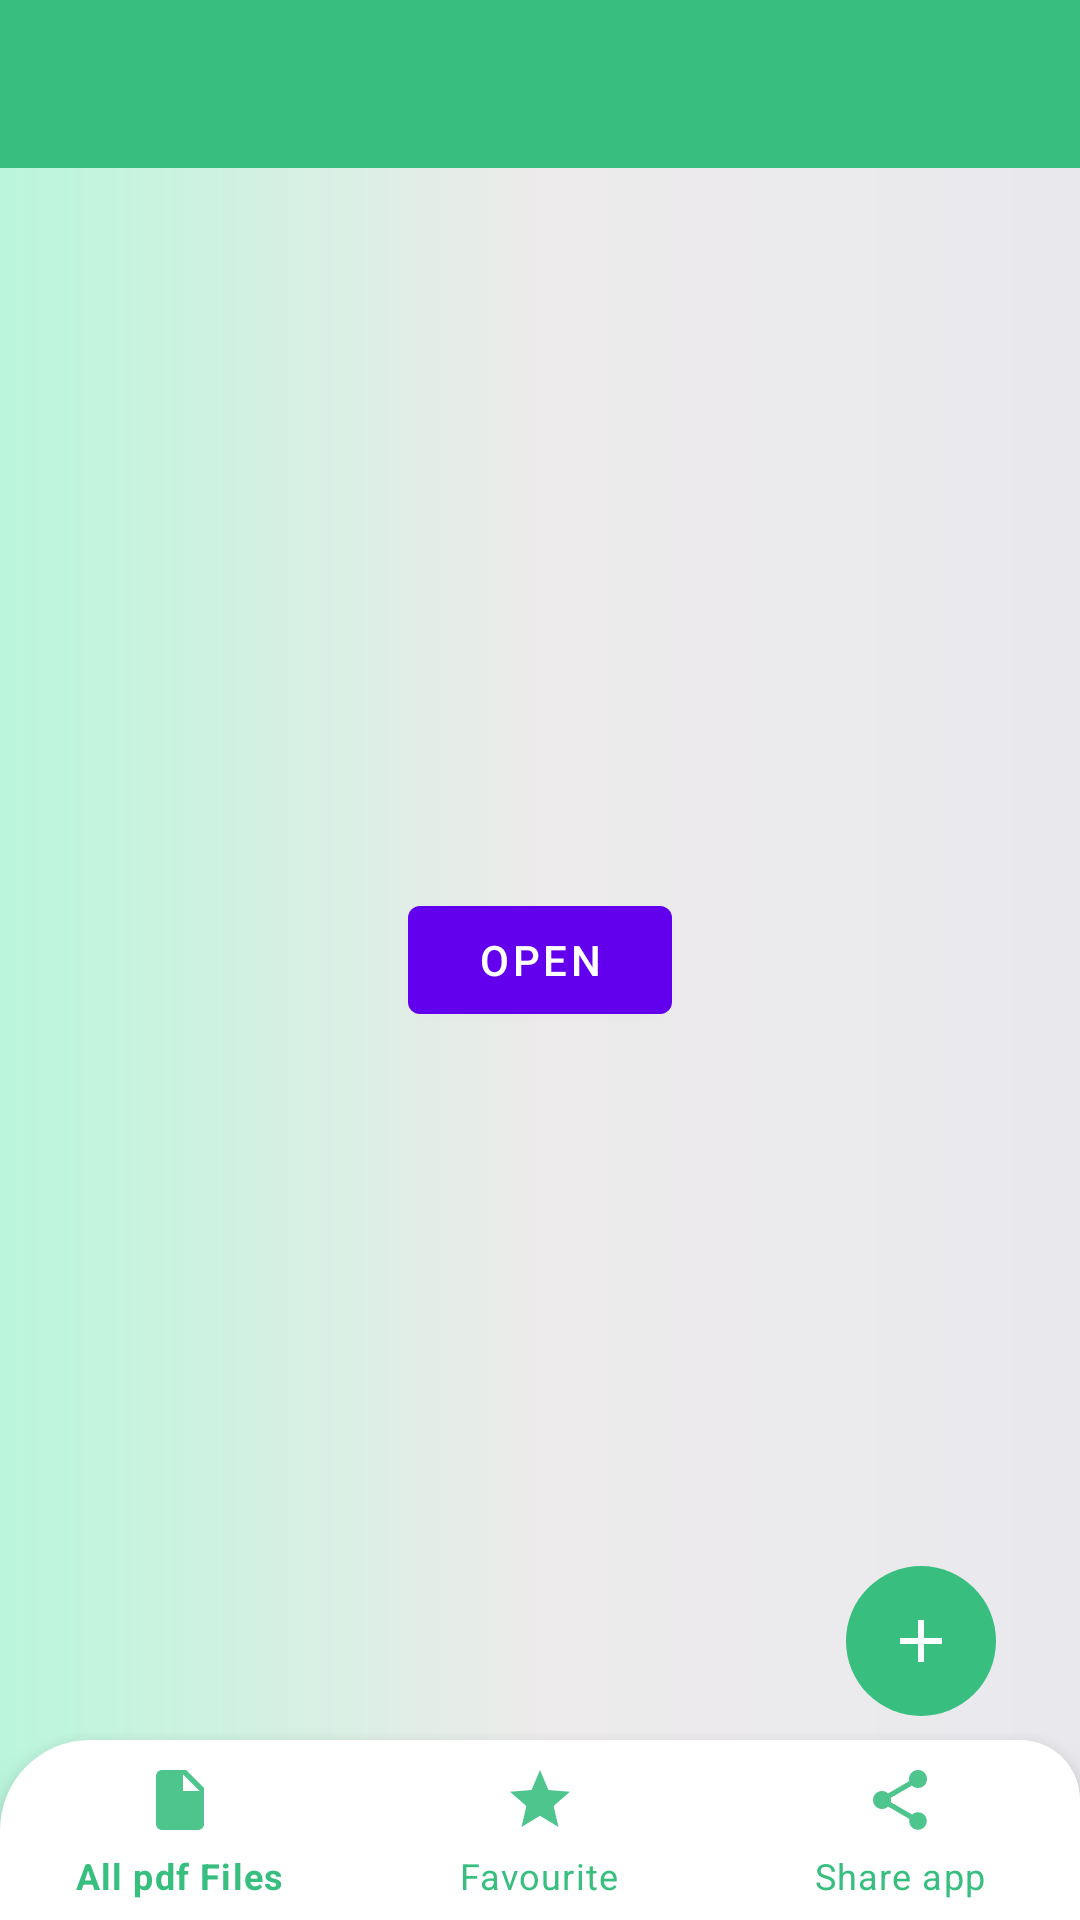

Icon click points for this 1080x1920 phone screenshot, format (x=x, y=y):
add: (x=921, y=1641)
